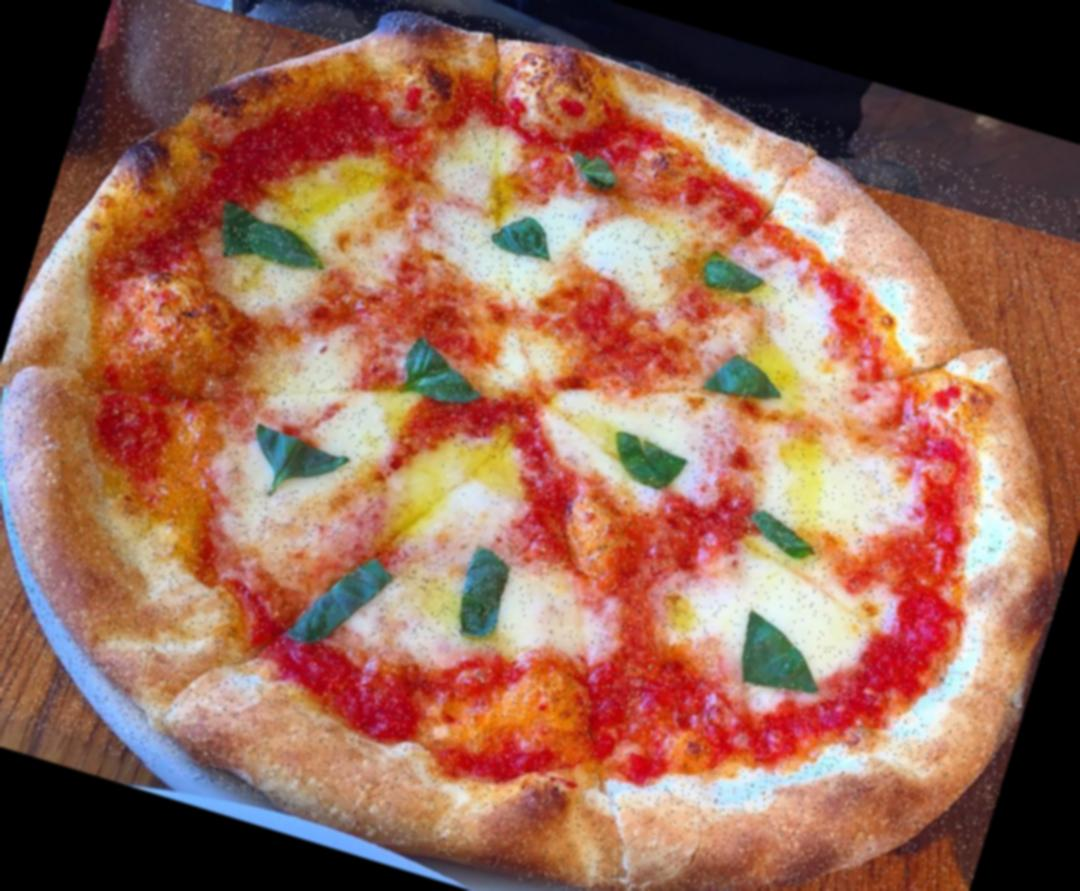Basil: (210, 194, 348, 290), (286, 536, 392, 651), (716, 613, 831, 707), (243, 410, 347, 501), (385, 328, 486, 418), (597, 422, 705, 501), (444, 544, 524, 643), (698, 341, 798, 420), (693, 244, 772, 308), (746, 500, 826, 556), (552, 140, 627, 196), (491, 203, 549, 258)
Cheese: (736, 276, 921, 520), (680, 542, 857, 678), (419, 150, 578, 299), (368, 430, 521, 569), (534, 374, 702, 494), (278, 342, 416, 460), (289, 172, 407, 290), (580, 203, 701, 306), (510, 567, 604, 657)
Pizza: (0, 0, 1080, 891)
